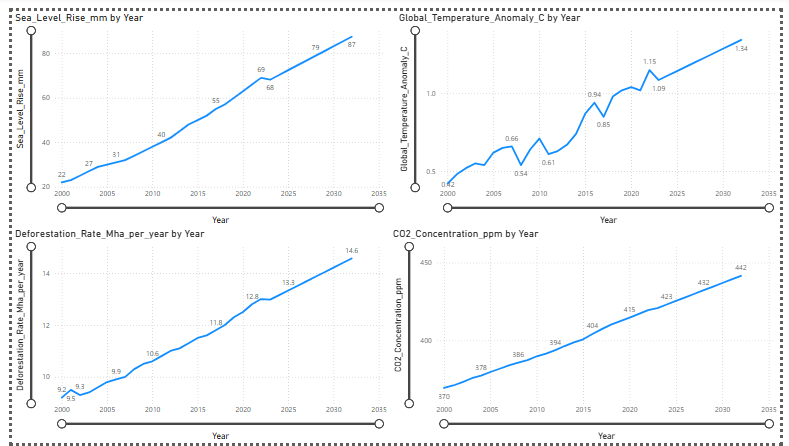

The page's visual inventory and layout, read from the dashboard file:
{"tool":"powerbi","page":{"name":"Page 1","canvas":[1280,720],"ordinal":0},"visuals":[{"type":"lineChart","fields":{"Category":["processed_climate_data_with_predictions.Year"],"Y":["Sum(processed_climate_data_with_predictions.Sea_Level_Rise_mm)"]},"box":[0,0,630,360],"z":0},{"type":"lineChart","fields":{"Category":["processed_climate_data_with_predictions.Year"],"Y":["Sum(processed_climate_data_with_predictions.Global_Temperature_Anomaly_C)"]},"box":[640,0,640,360],"z":1000},{"type":"lineChart","fields":{"Category":["processed_climate_data_with_predictions.Year"],"Y":["Sum(processed_climate_data_with_predictions.Deforestation_Rate_Mha_per_year)"]},"box":[0,360,630,360],"z":2000},{"type":"lineChart","fields":{"Category":["processed_climate_data_with_predictions.Year"],"Y":["Sum(processed_climate_data_with_predictions.CO2_Concentration_ppm)"]},"box":[630,360,650,360],"z":3000}]}

Visuals, with their boxes in screenshot pixels (x1, y1, x2, y2), scaled from the page's 1280x720 canvas onto the 789x446 screenshot:
lineChart - processed_climate_data_with_predictions.Year x Sum(processed_climate_data_with_predictions.Sea_Level_Rise_mm): pyautogui.locateOnScreen(0, 0, 388, 223)
lineChart - processed_climate_data_with_predictions.Year x Sum(processed_climate_data_with_predictions.Global_Temperature_Anomaly_C): pyautogui.locateOnScreen(394, 0, 788, 223)
lineChart - processed_climate_data_with_predictions.Year x Sum(processed_climate_data_with_predictions.Deforestation_Rate_Mha_per_year): pyautogui.locateOnScreen(0, 223, 388, 445)
lineChart - processed_climate_data_with_predictions.Year x Sum(processed_climate_data_with_predictions.CO2_Concentration_ppm): pyautogui.locateOnScreen(388, 223, 788, 445)
